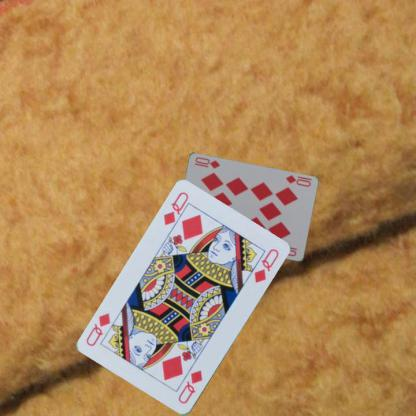10d: (283, 173, 313, 188)
Qd: (161, 189, 191, 234), (175, 368, 204, 405)
